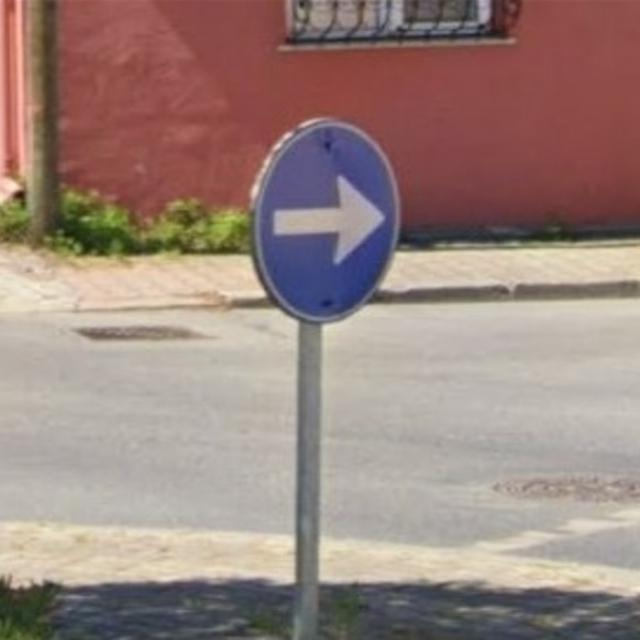Turn Right: (250, 118, 405, 322)
